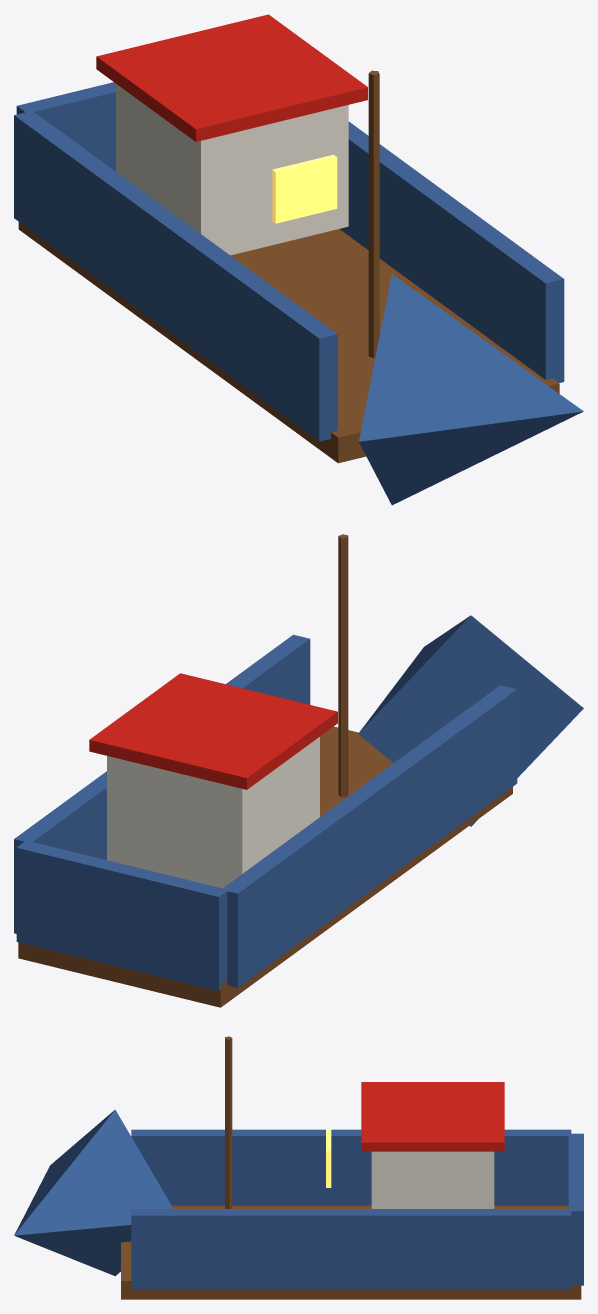
The model's file is town_fishing_boat.glb.
The picture shows the model from 3 angles, top to bottom: view 1: azimuth 30°, elevation 25°; view 2: azimuth 150°, elevation 25°; view 3: azimuth 270°, elevation 25°; orthographic projection. The views are drawn at different scales.
Visible parts, largest first — view 1: fishing_boat; view 2: fishing_boat; view 3: fishing_boat.
Part boxes in pixels (left/top/right/bottom): fishing_boat: left=14, top=14, right=583, bottom=505; fishing_boat: left=14, top=534, right=583, bottom=1007; fishing_boat: left=14, top=1036, right=583, bottom=1299.
Bounding box in the file's own units: 2.13 × 2.8 × 5.57.
